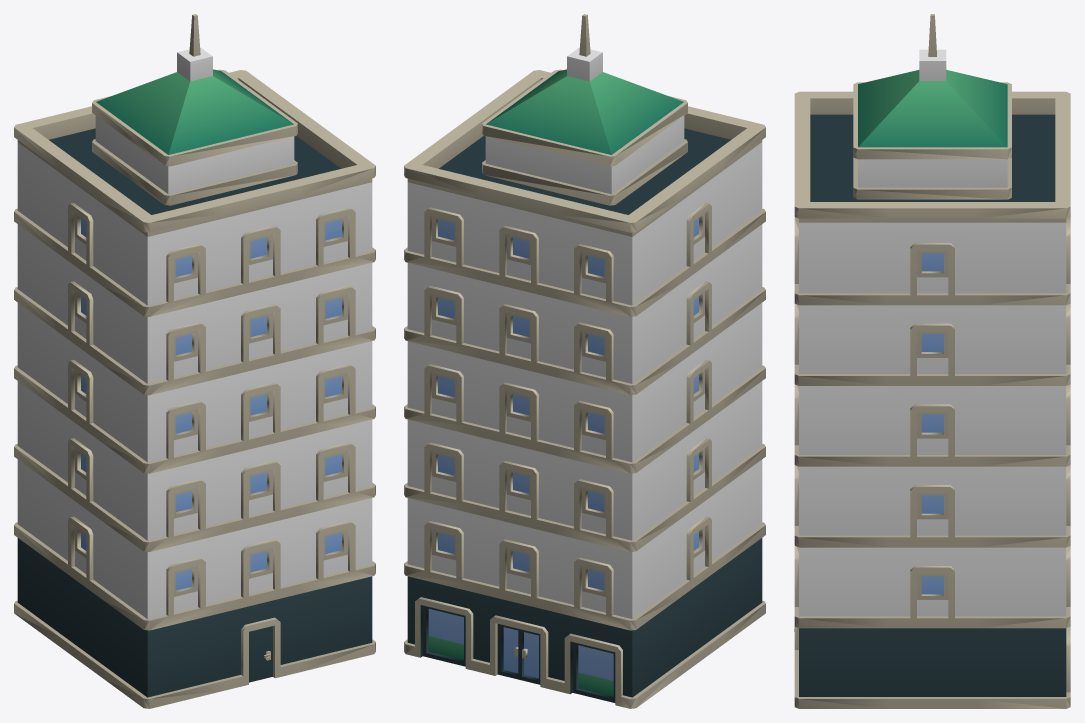
File: building-m.glb
The picture shows the model from 3 angles, left to right: view 1: azimuth 30°, elevation 25°; view 2: azimuth 150°, elevation 25°; view 3: azimuth 270°, elevation 25°; orthographic projection. The views are drawn at different scales.
Parts seen in each view (by area): view 1: building-m; view 2: building-m; view 3: building-m.
Boxes of the visible parts, x1,y1,x2,y2 form: building-m: (14, 14, 375, 708); building-m: (404, 14, 765, 708); building-m: (794, 14, 1070, 708).
Size of the model in its own units: 12.4 by 31.5 by 12.42.
